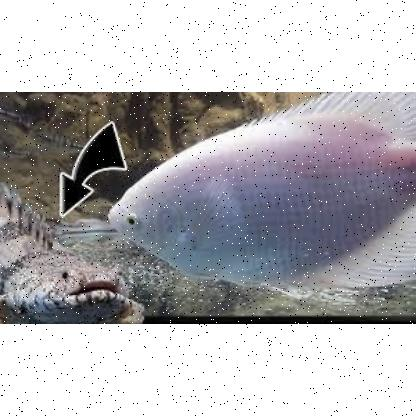gurame: (109, 90, 415, 286)
